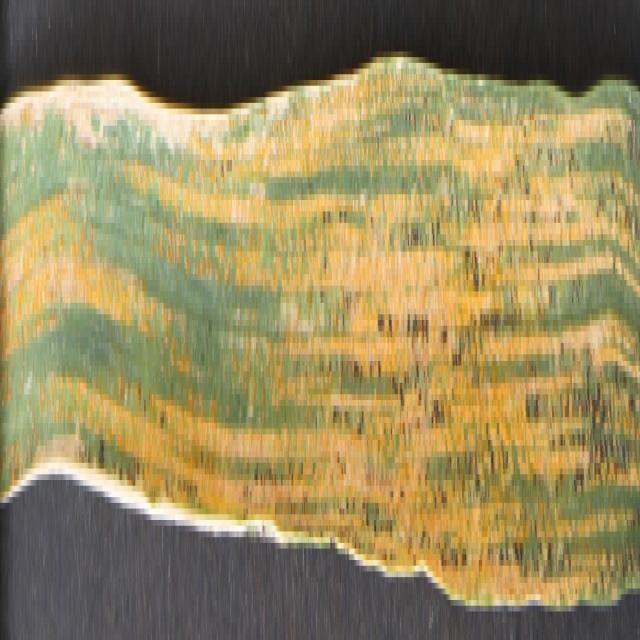leaf rust: (1, 40, 638, 589)
